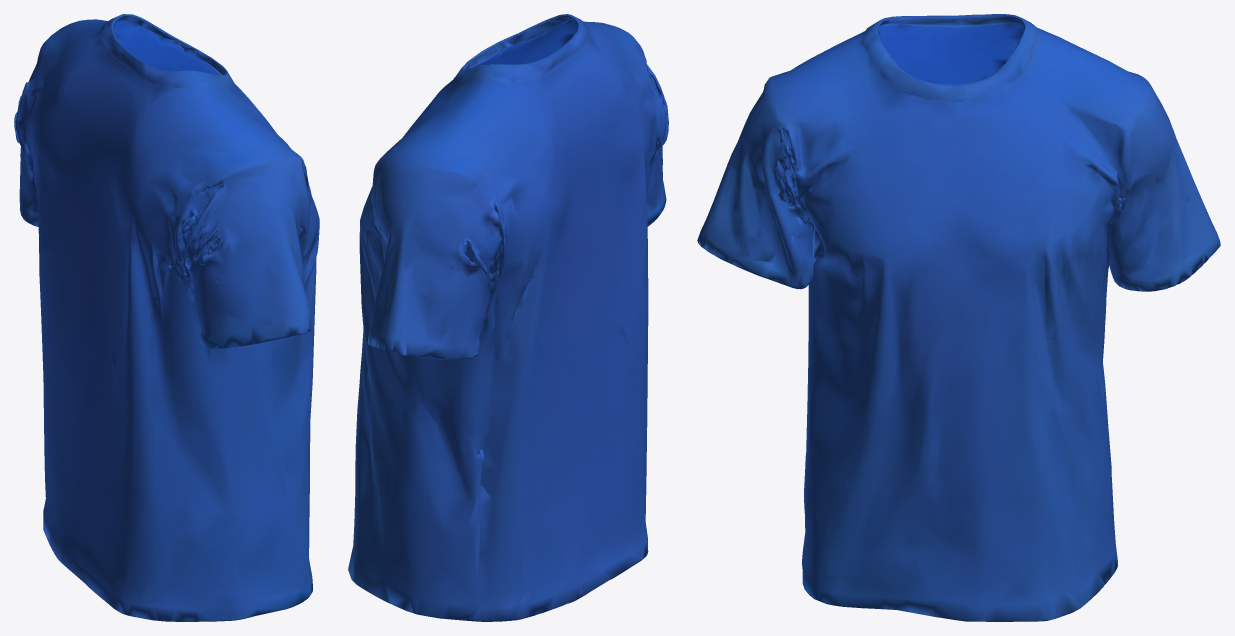
The picture shows the model from 3 angles, left to right: view 1: azimuth 30°, elevation 25°; view 2: azimuth 150°, elevation 25°; view 3: azimuth 270°, elevation 25°; orthographic projection.
Visible parts, largest first — view 1: tripo_node_d9e1e82c-5732-4f00-a9f3-ac014cab5615; view 2: tripo_node_d9e1e82c-5732-4f00-a9f3-ac014cab5615; view 3: tripo_node_d9e1e82c-5732-4f00-a9f3-ac014cab5615.
Part boxes in pixels (x1=…): tripo_node_d9e1e82c-5732-4f00-a9f3-ac014cab5615: x1=14, y1=14, x2=319, y2=621; tripo_node_d9e1e82c-5732-4f00-a9f3-ac014cab5615: x1=348, y1=14, x2=668, y2=621; tripo_node_d9e1e82c-5732-4f00-a9f3-ac014cab5615: x1=697, y1=14, x2=1220, y2=621.
Size of the model in its own units: 0.4284 by 0.9997 by 0.8825.
1 material, 1 textured.
